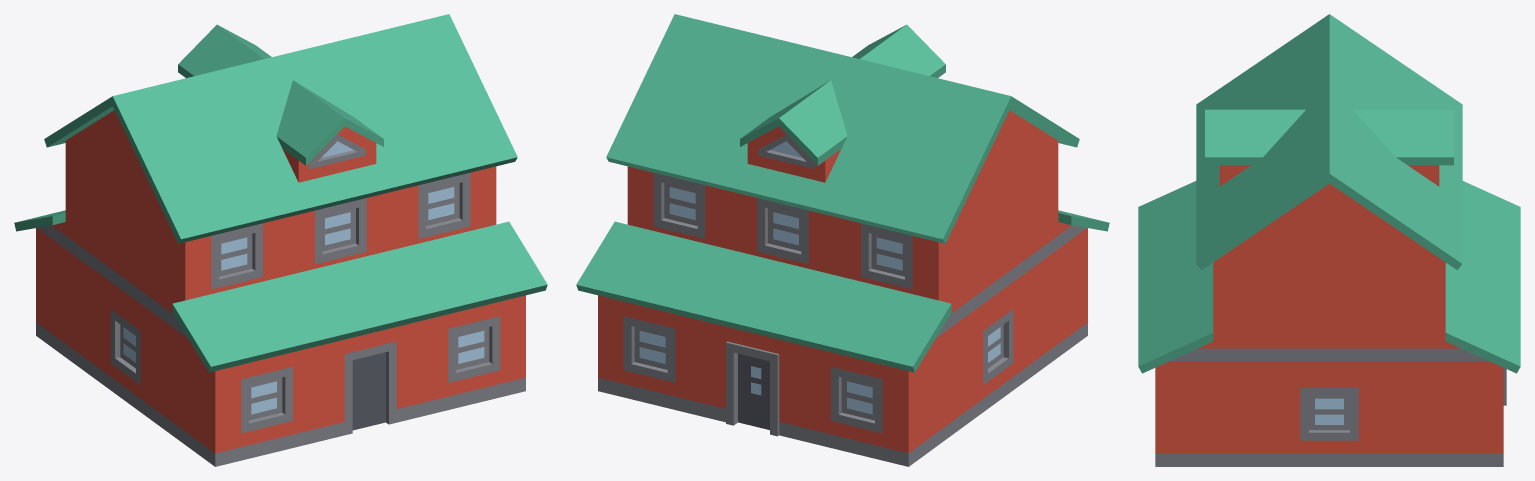
File: house_type06.obj
3 renders of one model, left to right at view 1: azimuth 30°, elevation 25°; view 2: azimuth 150°, elevation 25°; view 3: azimuth 270°, elevation 25°, orthographic. The views are drawn at different scales.
Visible parts, largest first — view 1: house_type06; view 2: house_type06; view 3: house_type06.
Part boxes in pixels (<box>): house_type06: <box>14,14,547,466</box>; house_type06: <box>576,14,1109,466</box>; house_type06: <box>1138,14,1520,466</box>.
Size of the model in its own units: 1.49 by 1.31 by 1.51.
